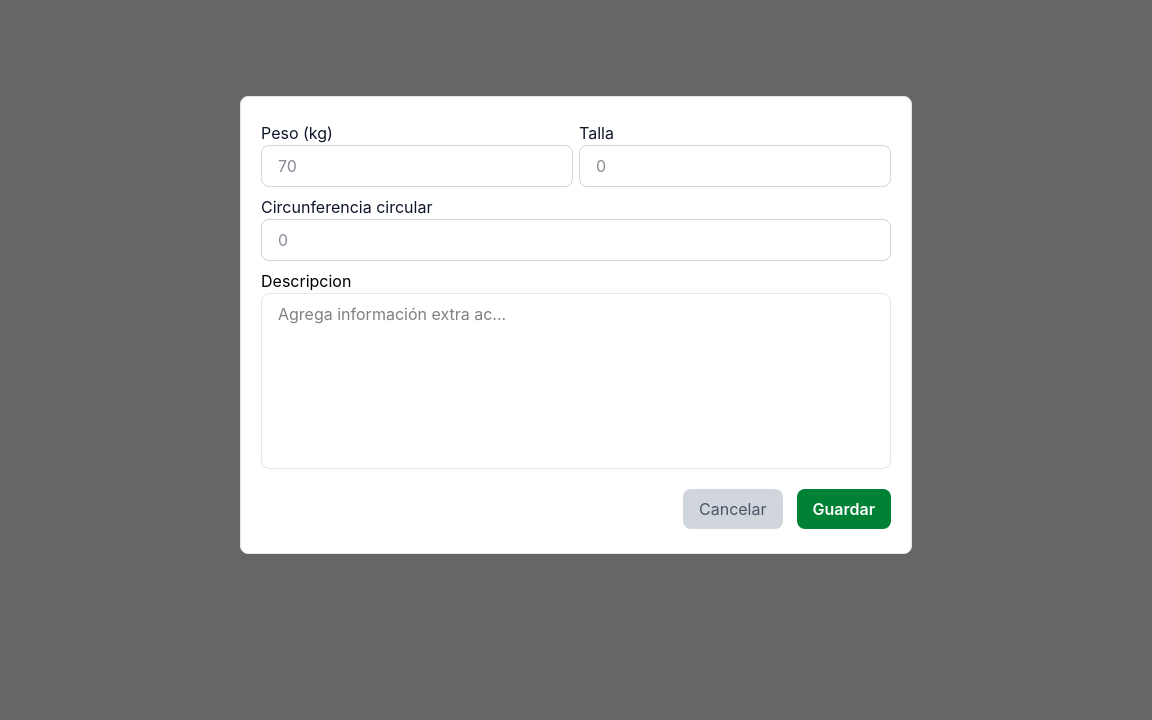
Scenario: FormularioInforme › Modo creacion › muestra error si la descripción tiene menos de 10 caracteres
Type "75" into the field labelled "Peso (kg)" at point(417, 166), box [261, 145, 573, 187]
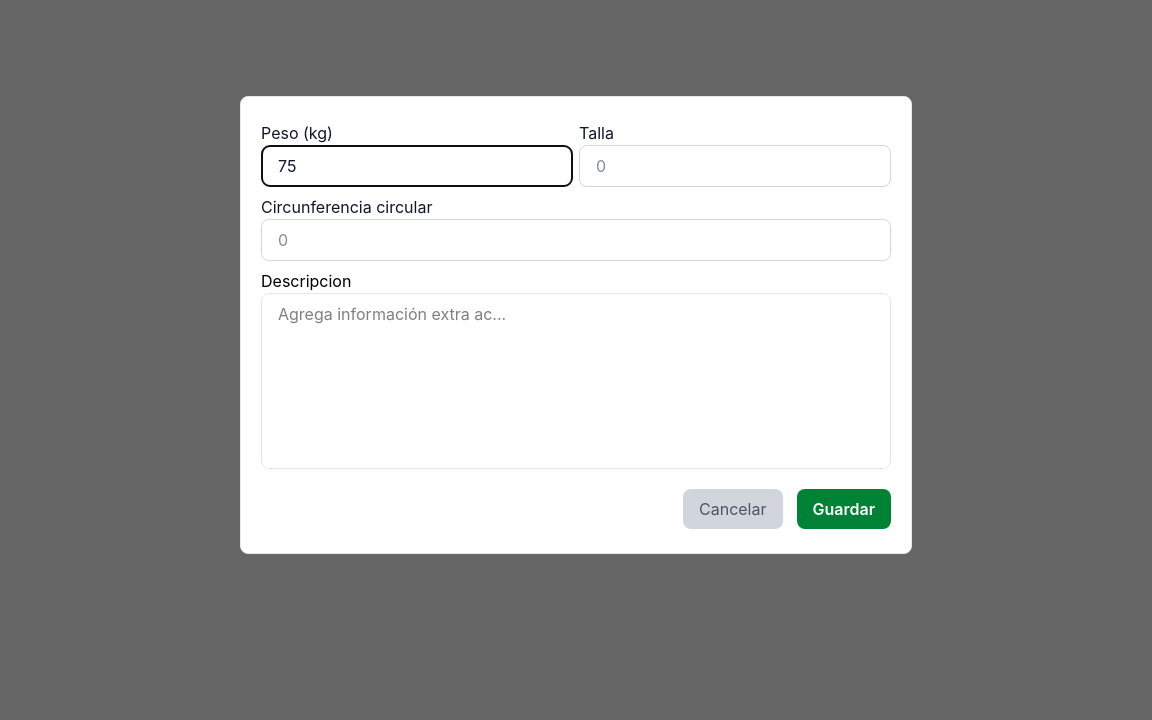
Type "175" into the field labelled "Talla" at point(735, 166), box [579, 145, 891, 187]
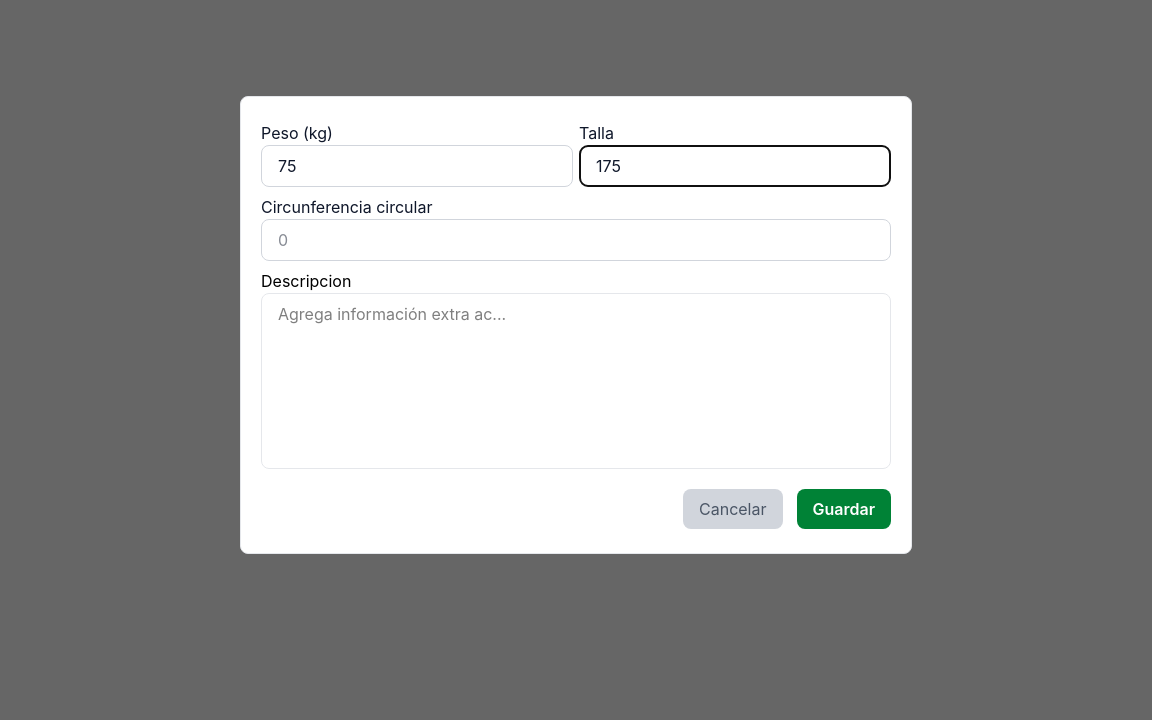
Type "85" into the field labelled "Circunferencia circular" at point(576, 240), box [261, 219, 891, 261]
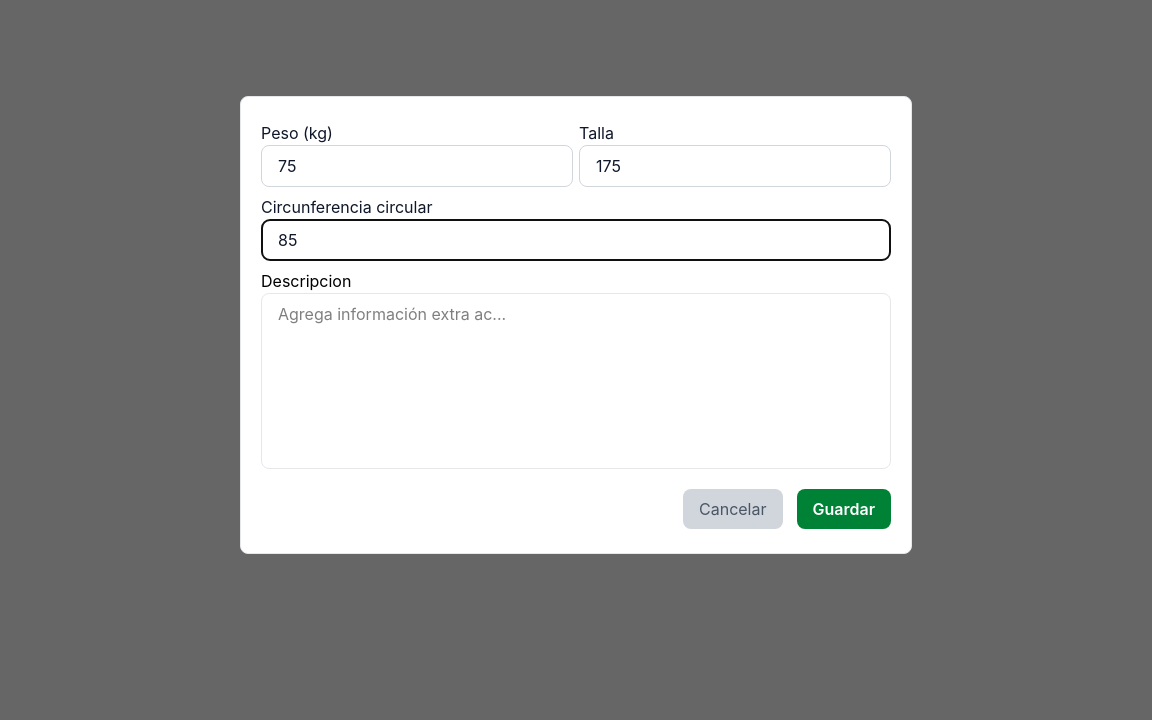
Type "Hola" into the text box labelled "Descripcion" at point(576, 381), box [261, 293, 891, 469]
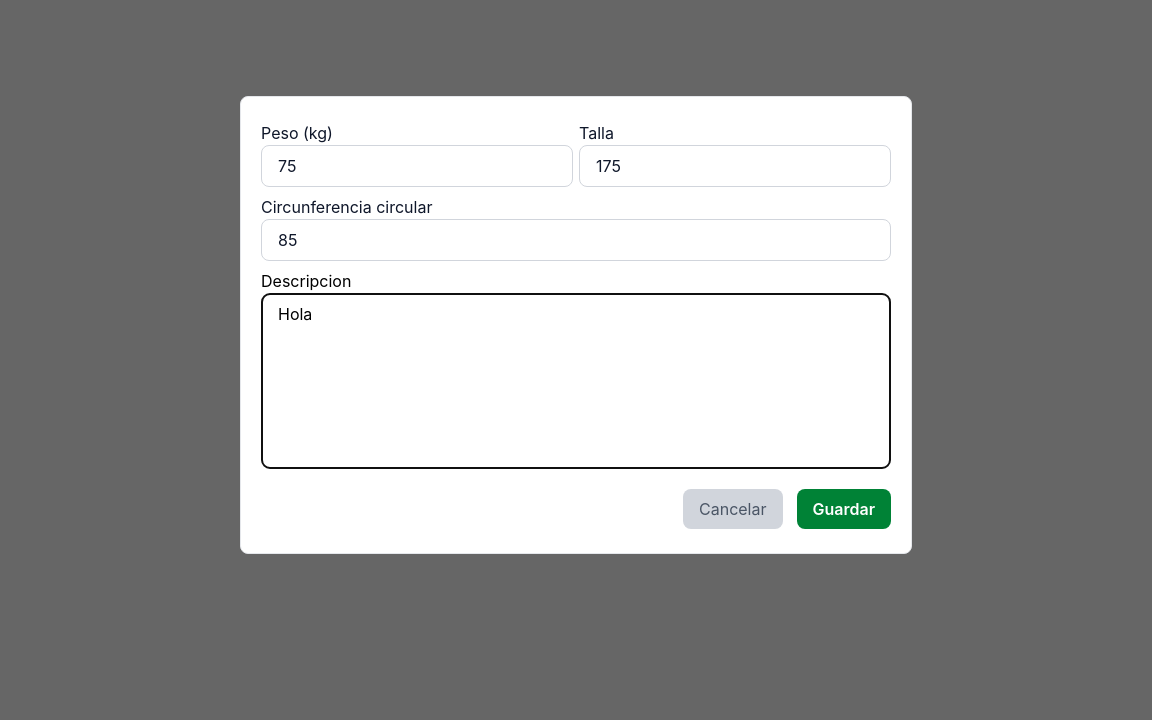
Click the button "Guardar" at point(844, 509), box [796, 489, 891, 529]
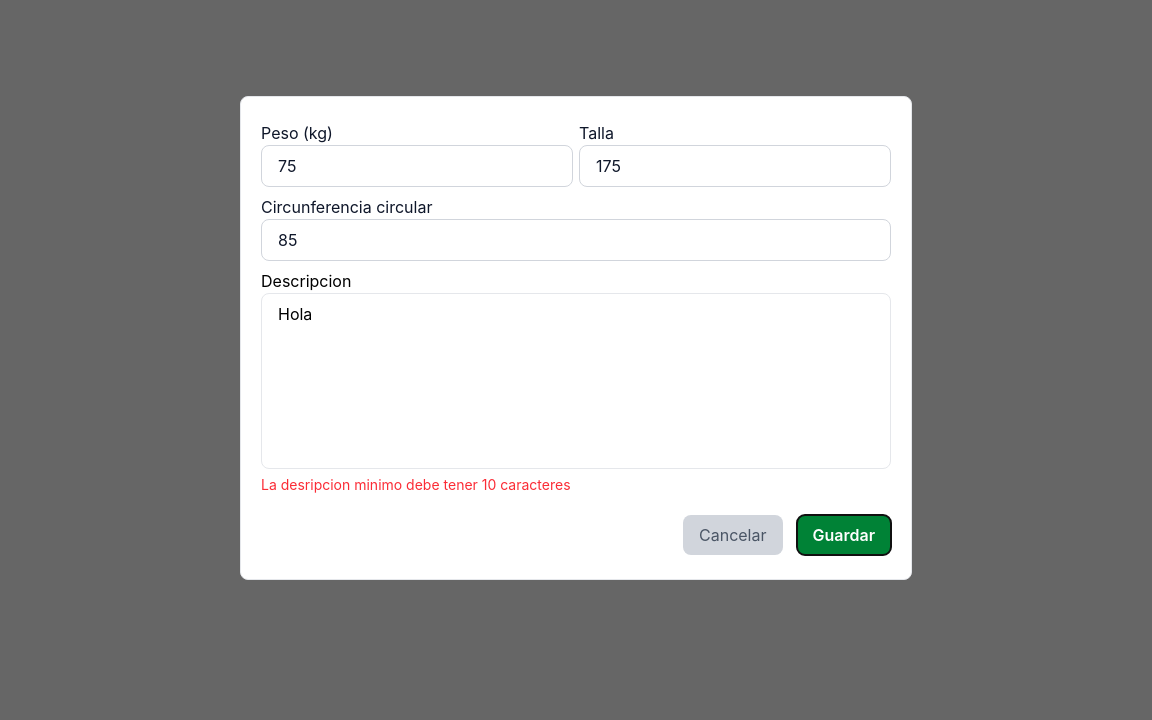
Expected: the text "La desripcion minimo debe tener 10 caracteres" is shown, [261, 476, 571, 493]
